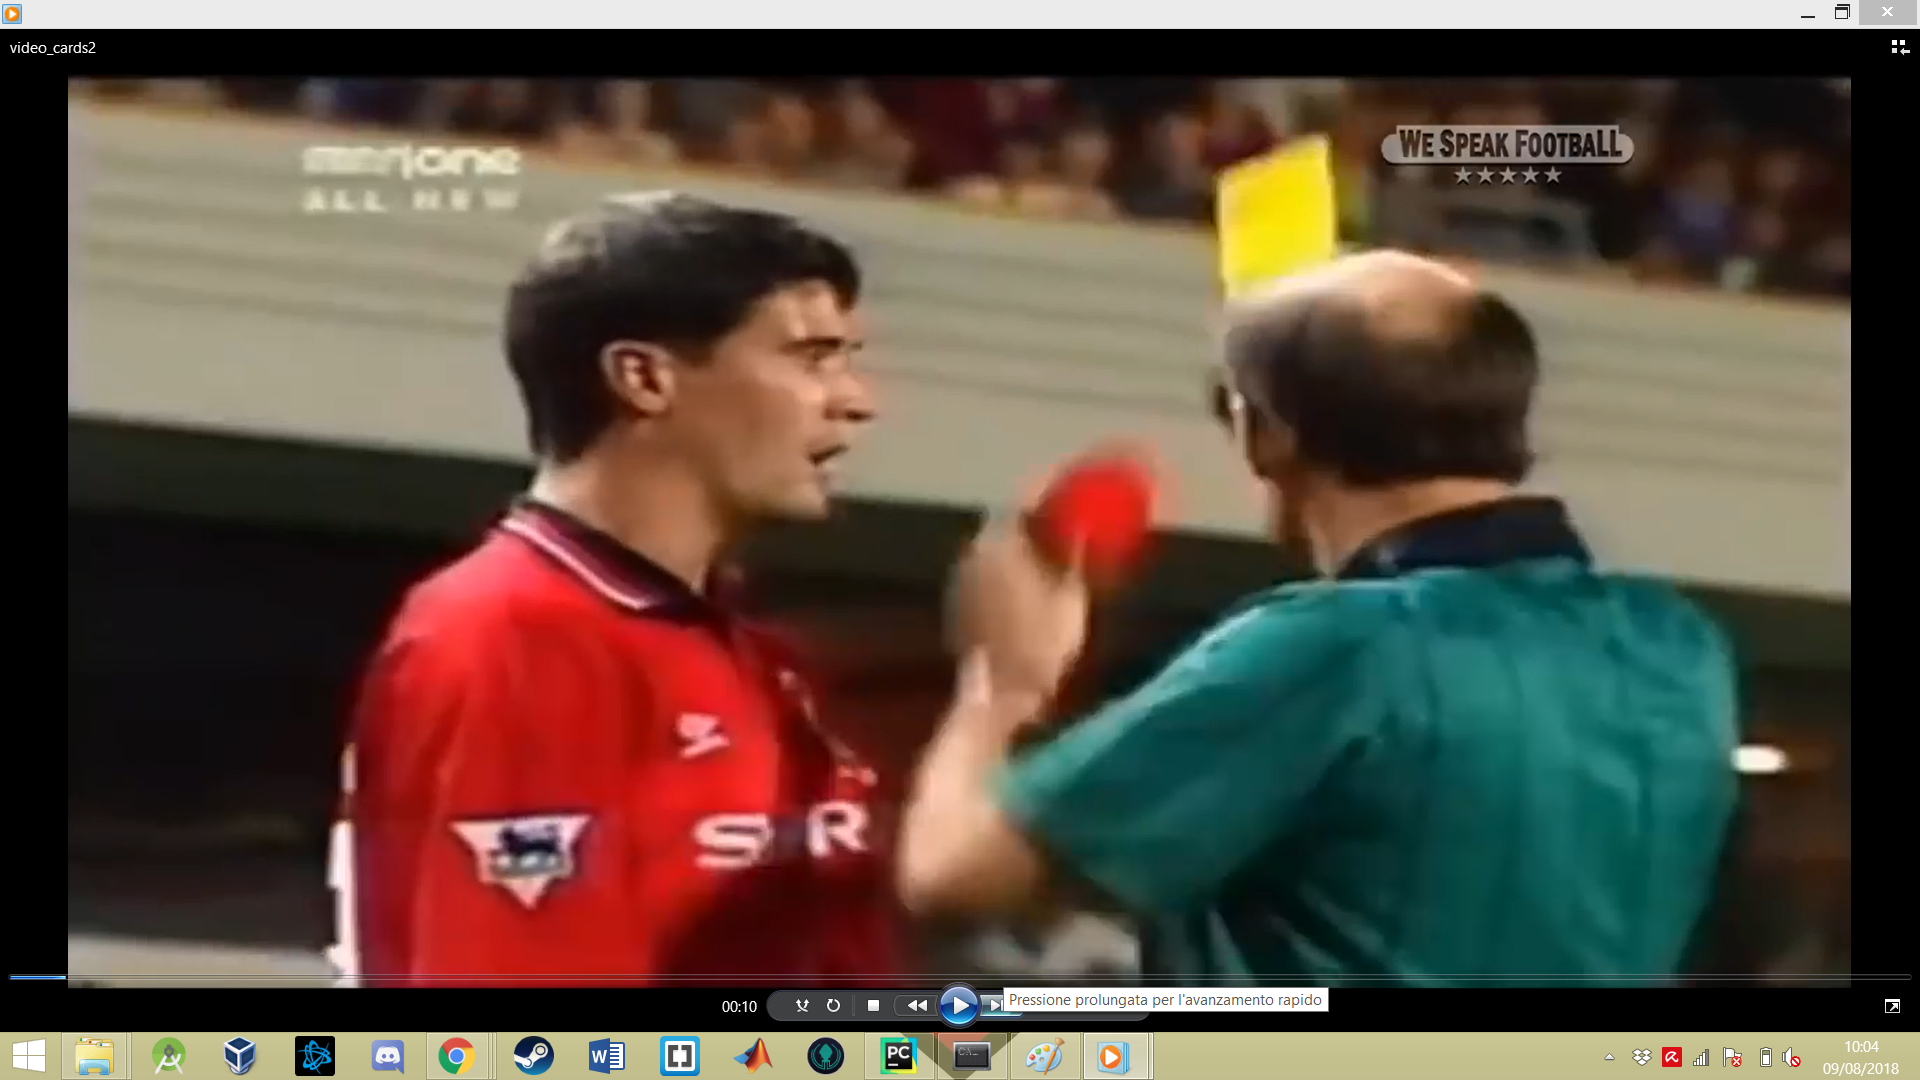red_card: (1203, 127, 1344, 305)
yellow_card: (1203, 148, 1342, 305)
